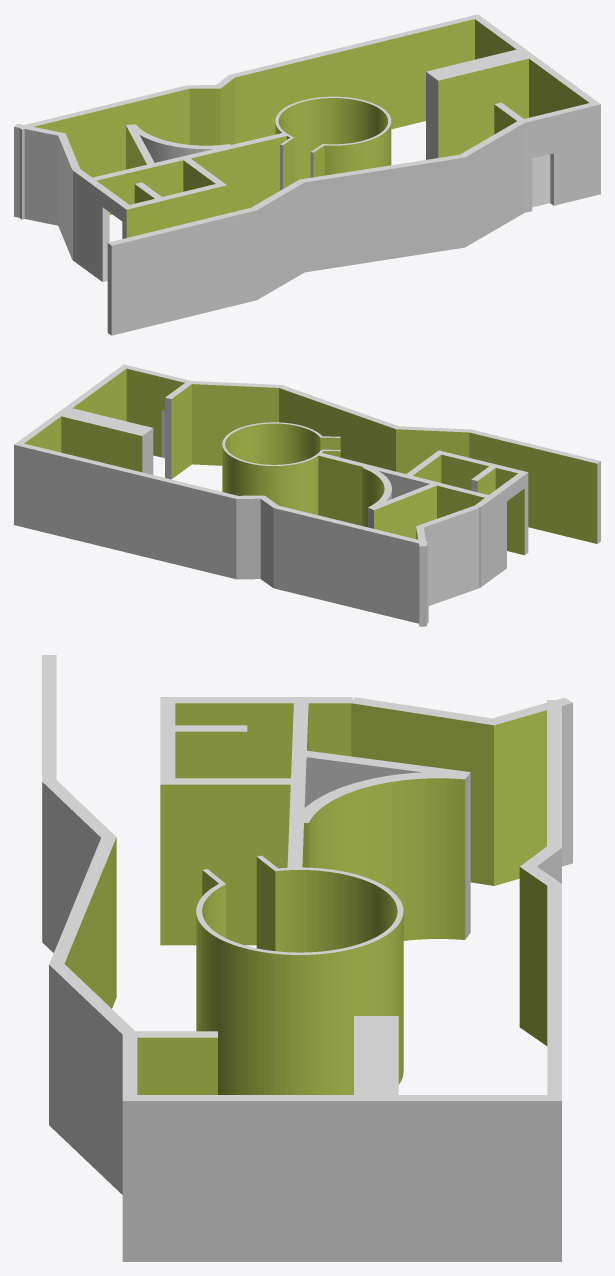
The model's file is VDNH_MINUS_GLB_TEST.glb.
3 renders of one model, top to bottom at view 1: azimuth 30°, elevation 25°; view 2: azimuth 150°, elevation 25°; view 3: azimuth 270°, elevation 25°, orthographic. The views are drawn at different scales.
Size of the model in its own units: 0.0357 by 0.006 by 0.018.
